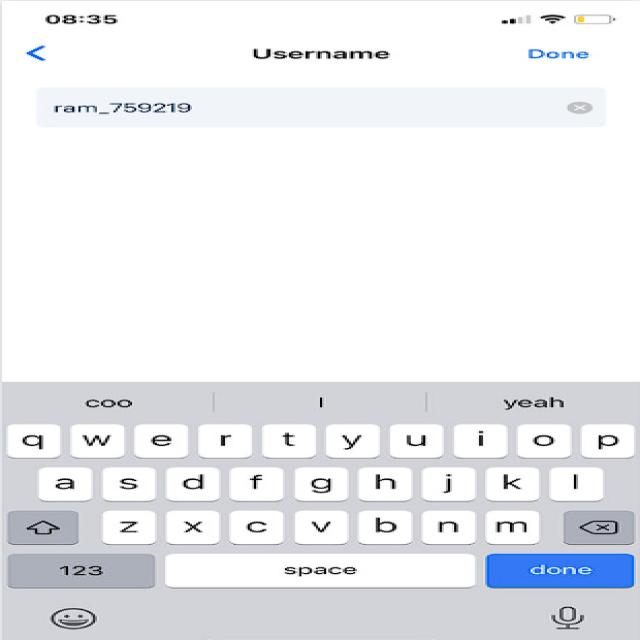icon button: (39, 596, 113, 634), (540, 597, 604, 635), (18, 34, 71, 68)
input: (21, 78, 623, 145)
text: (210, 32, 439, 68), (517, 39, 618, 66)
